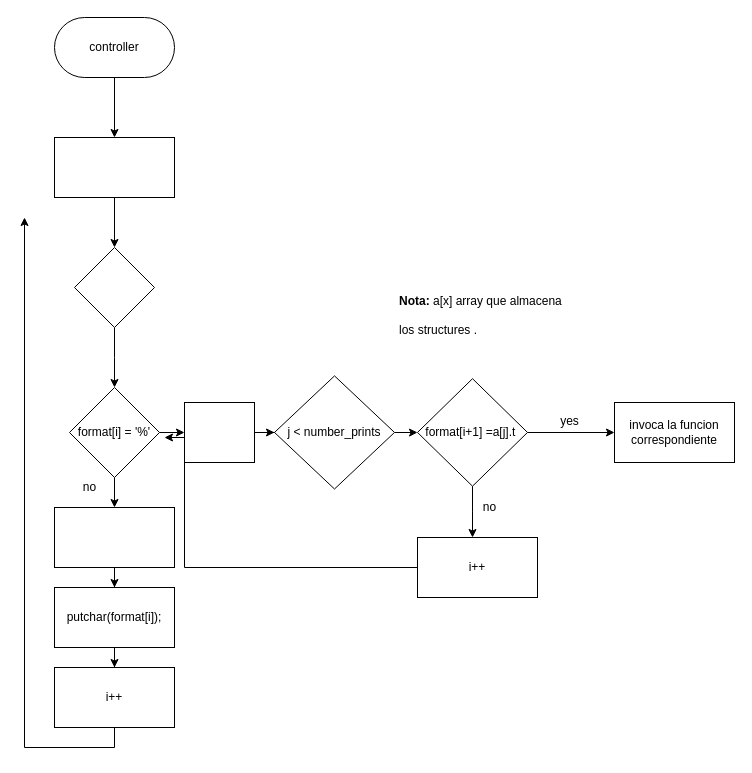
Image size: 752x773. Some labels were removed from this diagram. Each missing label, with the centre of its shape:
"i < length" goes at point (114, 287).
"i = 0" goes at point (114, 167).
"int numb_char = numb_char + 1" goes at point (114, 537).
"j = 0" goes at point (219, 432).
